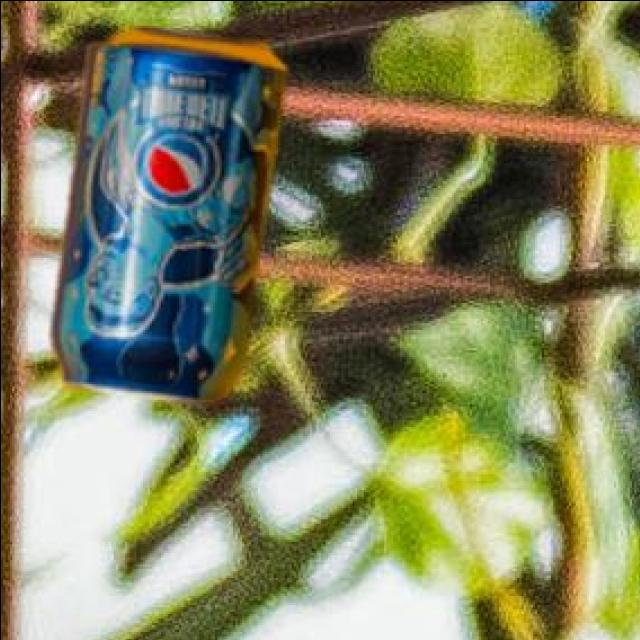logam: (46, 30, 281, 405)
